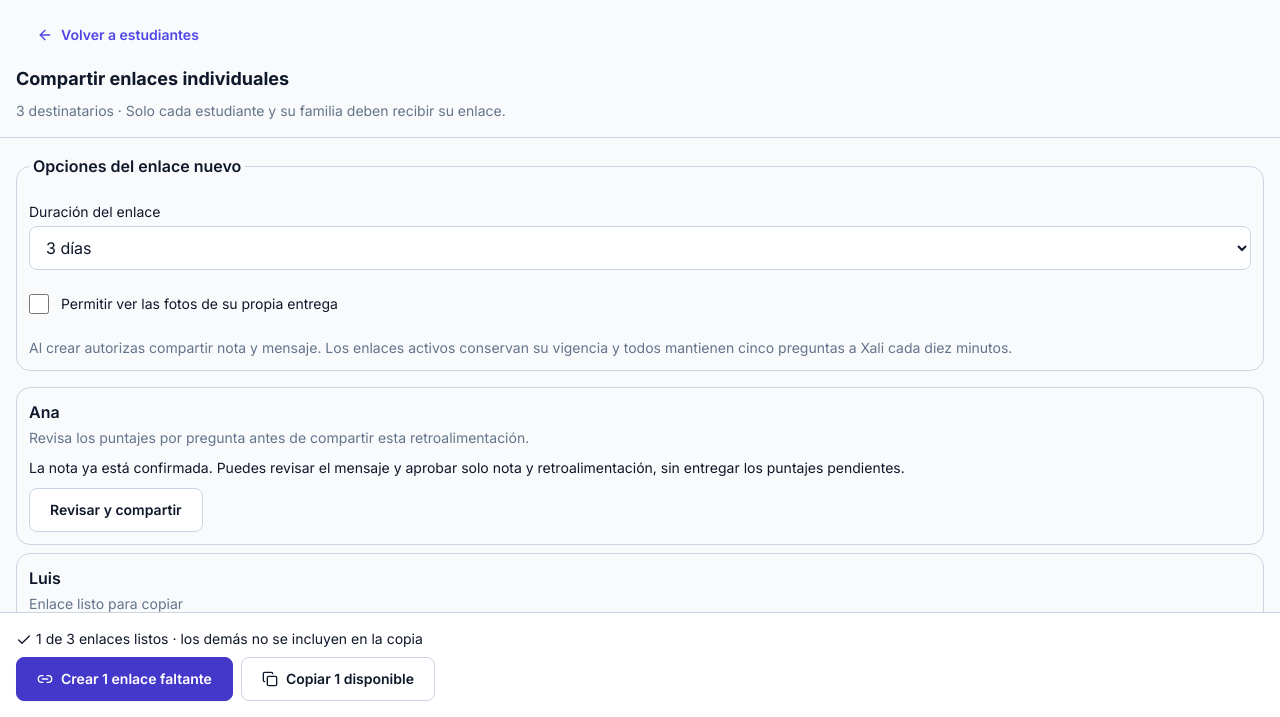
Test: 129 mismo panel de compartir y copia › conserva opciones y otro enlace preparado al aprobar una retroalimentación pendiente
Expected: the button with aria-label "Copiar enlace de Luis" is shown, [29, 622, 164, 666]
Select "7 días" in the dropdown labelled "Duración del enlace" at (640, 248), box [29, 226, 1251, 270]
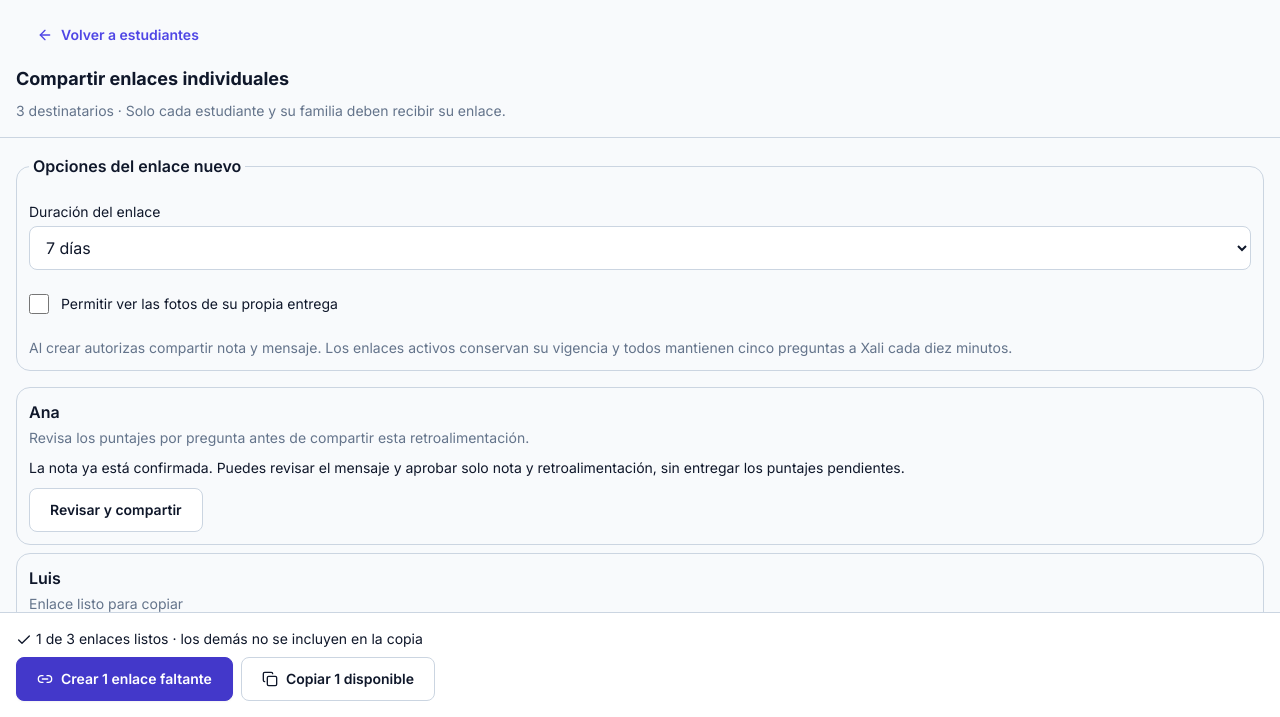
Click the checkbox labelled "Permitir ver las fotos de su propia entrega".
click(39, 304)  # box [29, 294, 49, 314]
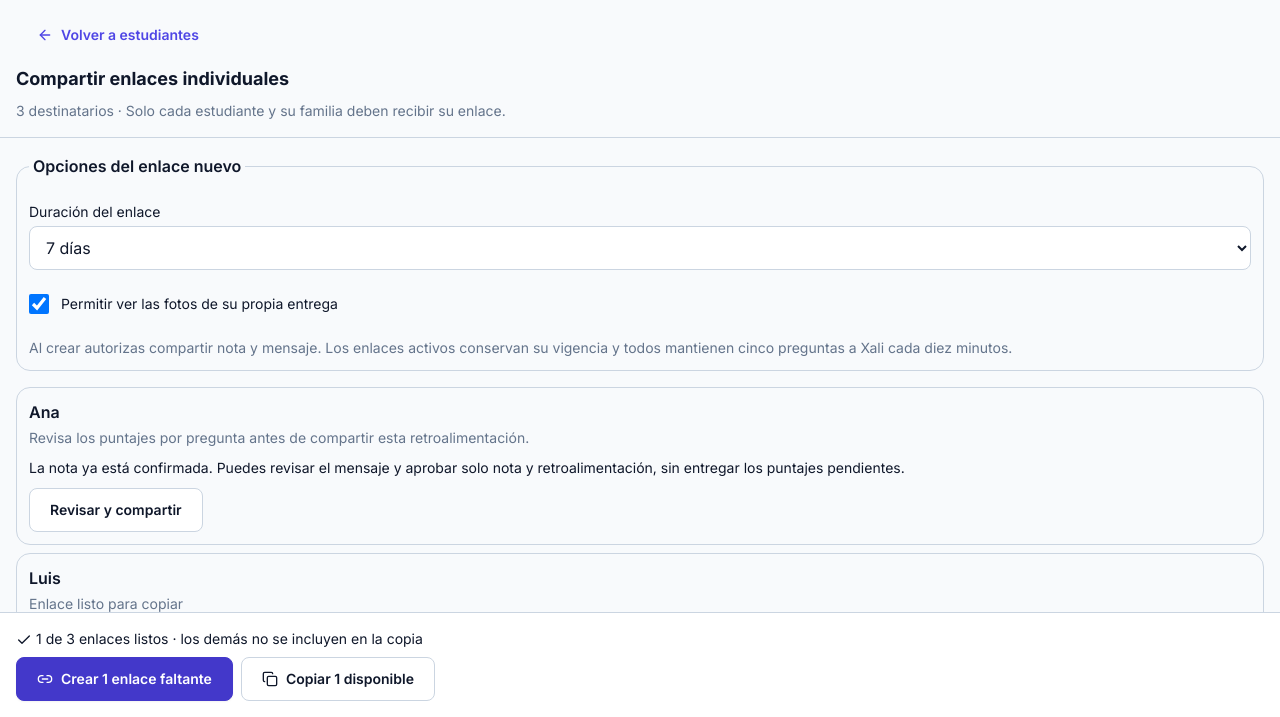
Click the button with aria-label "Revisar y compartir retroalimentación de Ana".
click(116, 510)  # box [29, 488, 203, 532]
(page scrolled)
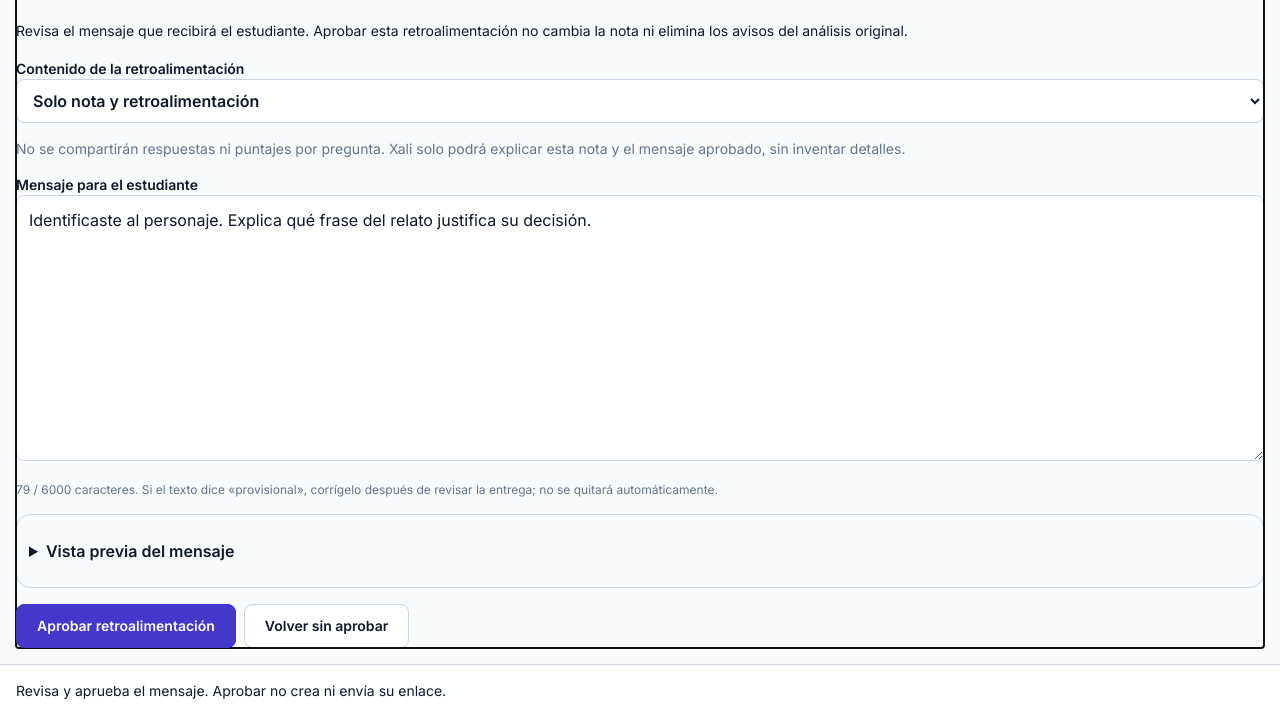
Click the button "Aprobar retroalimentación".
click(126, 626)  # box [16, 604, 236, 648]
(page scrolled)
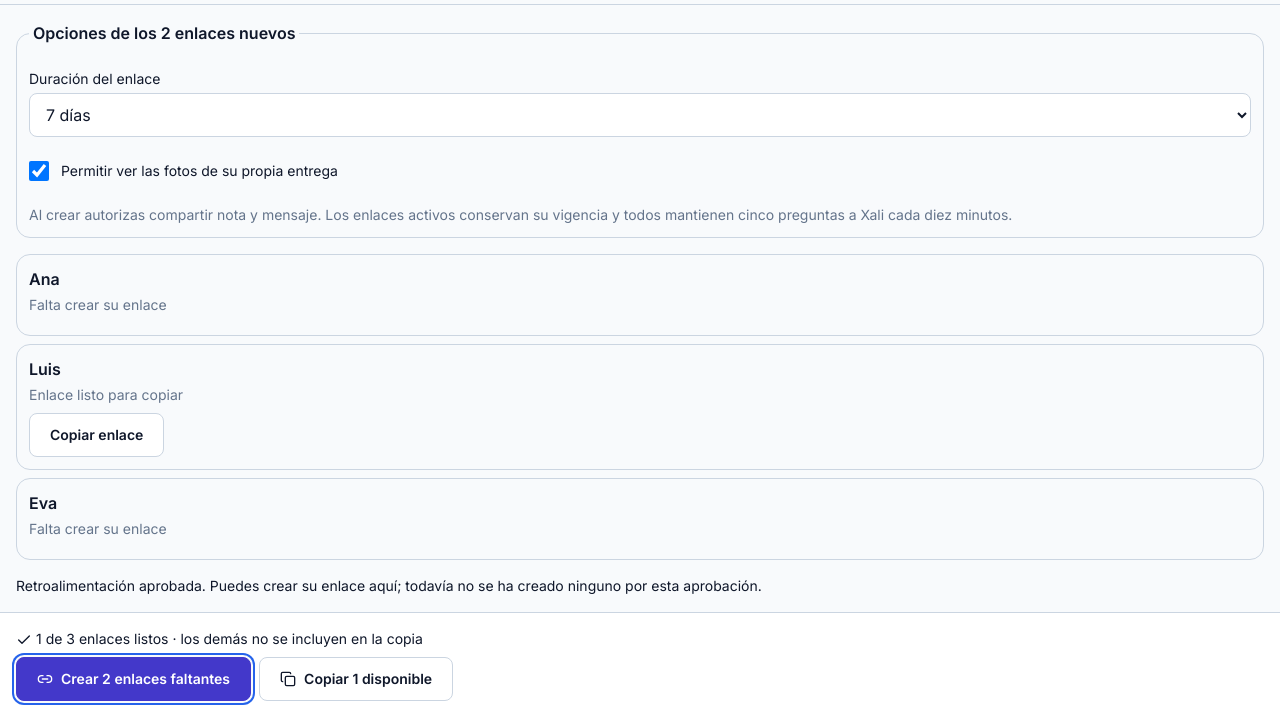
Expected: the button "Crear 2 enlaces faltantes" is shown, [16, 657, 251, 701]
Expected: the dropdown labelled "Duración del enlace" shows "7 días", [29, 93, 1251, 137]
Expected: the checkbox labelled "Permitir ver las fotos de su propia entrega" is checked, [29, 161, 49, 181]
